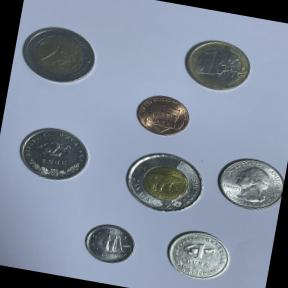1 Euro: (176, 32, 258, 98)
2 Euro: (10, 17, 104, 94)
Canda-10cent-: (76, 216, 140, 271)
Canda-2Dollar-: (115, 144, 210, 220)
Croatia-2Kune-: (11, 119, 96, 189)
US-1cent-: (128, 88, 195, 143)
US-25cent-: (208, 149, 288, 217)
